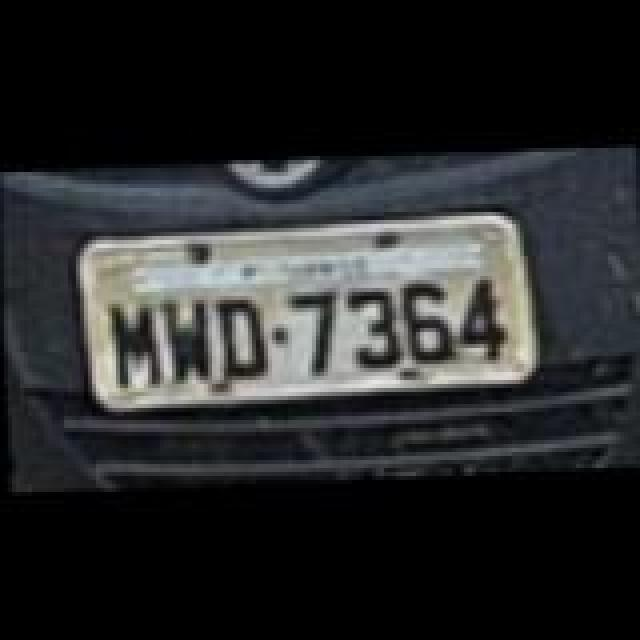3: (346, 288, 402, 368)
4: (454, 278, 510, 362)
6: (398, 280, 454, 364)
7: (286, 292, 342, 376)
D: (212, 296, 272, 376)
M: (106, 304, 162, 388)
W: (158, 296, 214, 380)
